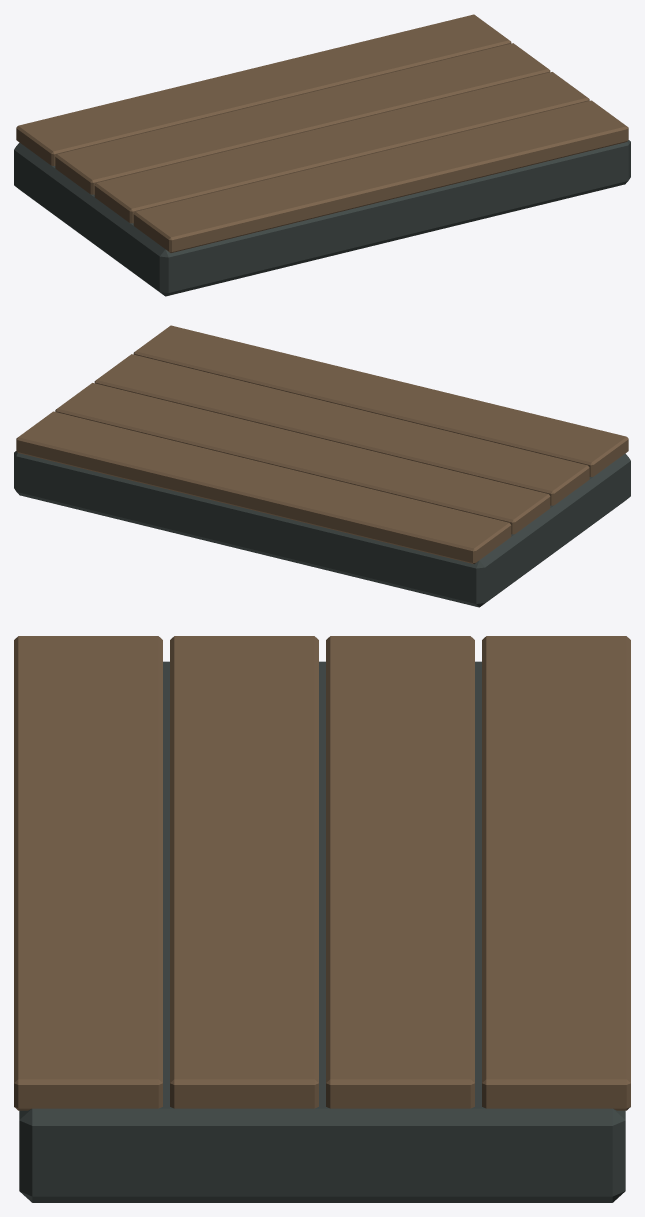
File: EntryStep01.fbx
The picture shows the model from 3 angles, top to bottom: view 1: azimuth 30°, elevation 25°; view 2: azimuth 150°, elevation 25°; view 3: azimuth 270°, elevation 25°; orthographic projection. The views are drawn at different scales.
Visible parts, largest first — view 1: Step_Base, Step_Plank, Step_Plank.003, Step_Plank.001, Step_Plank.002; view 2: Step_Base, Step_Plank.003, Step_Plank, Step_Plank.002, Step_Plank.001; view 3: Step_Plank, Step_Plank.003, Step_Plank.001, Step_Plank.002, Step_Base.
Boxes of the visible parts, x1,y1,x2,y2 form: Step_Base: (14, 140, 630, 296); Step_Plank: (133, 100, 628, 252); Step_Plank.003: (16, 14, 511, 165); Step_Plank.001: (94, 72, 589, 223); Step_Plank.002: (55, 43, 550, 194); Step_Base: (14, 451, 630, 607); Step_Plank.003: (16, 411, 511, 563); Step_Plank: (133, 325, 628, 476); Step_Plank.002: (55, 383, 550, 534); Step_Plank.001: (94, 354, 589, 505); Step_Plank: (14, 636, 162, 1110); Step_Plank.003: (482, 636, 630, 1110); Step_Plank.001: (170, 636, 318, 1108); Step_Plank.002: (326, 636, 474, 1108); Step_Base: (19, 661, 625, 1202).
Bounding box in the file's own units: 125 × 15.5 × 71.2.
